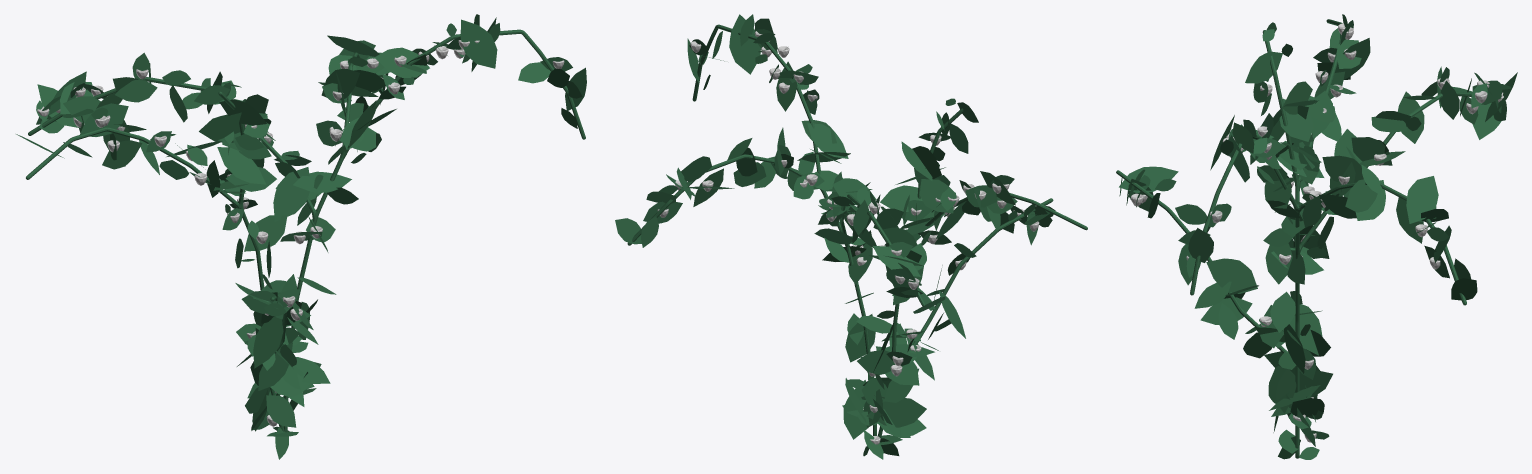
The model's file is mod_vg_murier.fbx.
The picture shows the model from 3 angles, left to right: view 1: azimuth 30°, elevation 25°; view 2: azimuth 150°, elevation 25°; view 3: azimuth 270°, elevation 25°; orthographic projection. The views are drawn at different scales.
Parts seen in each view (by area): view 1: Plane.001; view 2: Plane.001; view 3: Plane.001.
Part boxes in pixels (bbox=[...]): Plane.001: bbox=[16, 14, 586, 459]; Plane.001: bbox=[615, 14, 1087, 459]; Plane.001: bbox=[1116, 14, 1517, 459].
Bounding box in the file's own units: 265 × 213 × 183.
